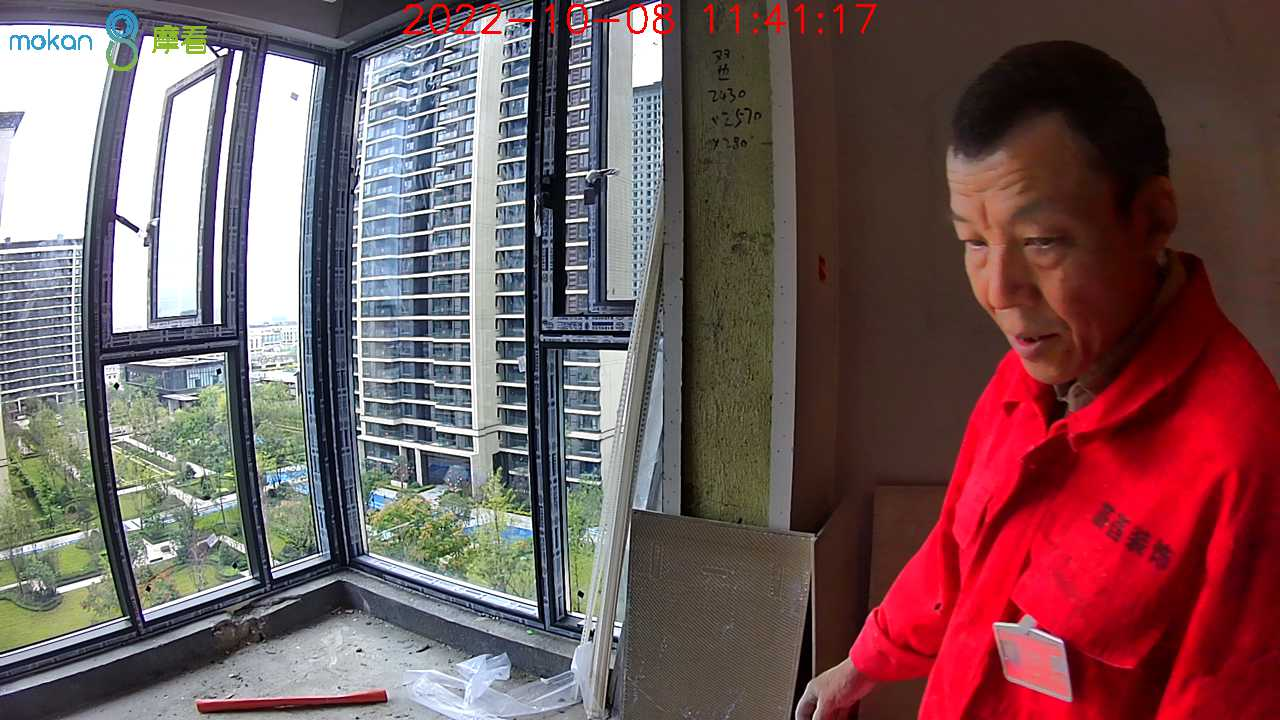people: (797, 40, 1279, 720)
window: (2, 15, 670, 657)
